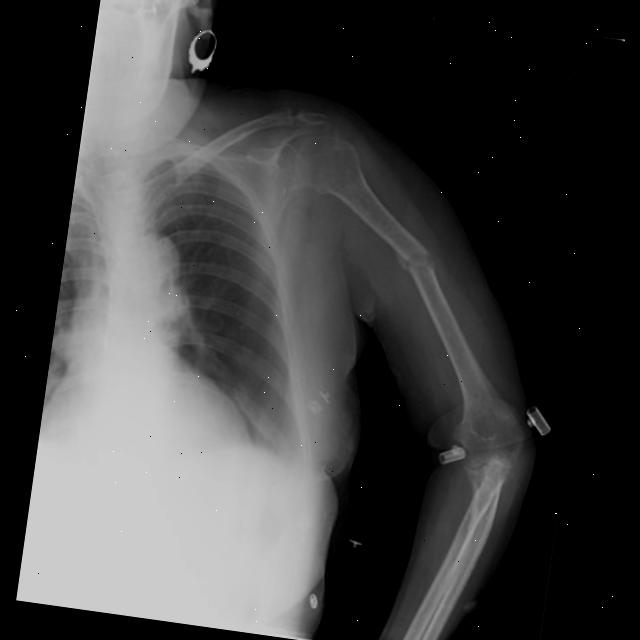Fracture: (378, 240, 438, 281)
